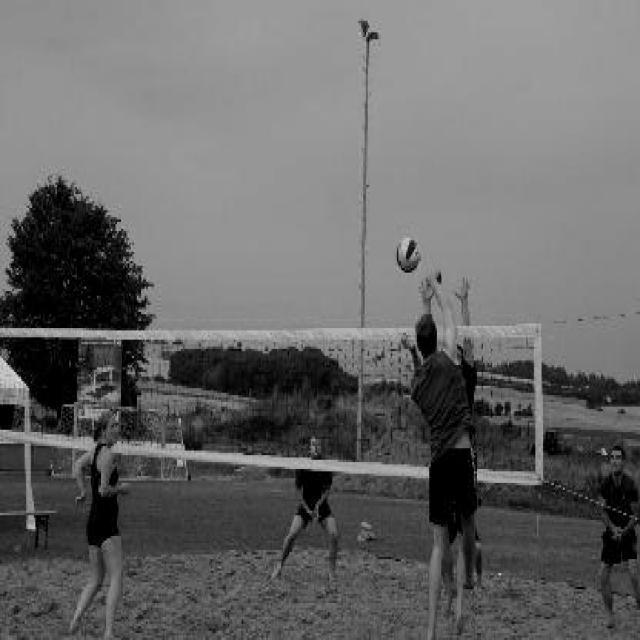volleyball: (396, 238, 421, 273)
